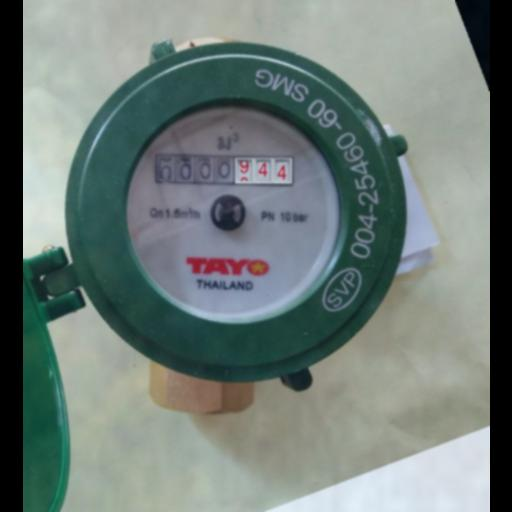0: (158, 157, 172, 181), (177, 158, 191, 181), (197, 158, 211, 181), (217, 159, 230, 182)
4: (275, 160, 288, 182), (255, 161, 269, 181)
9: (237, 161, 251, 181)
border_water_meter_number: (155, 154, 293, 187)
